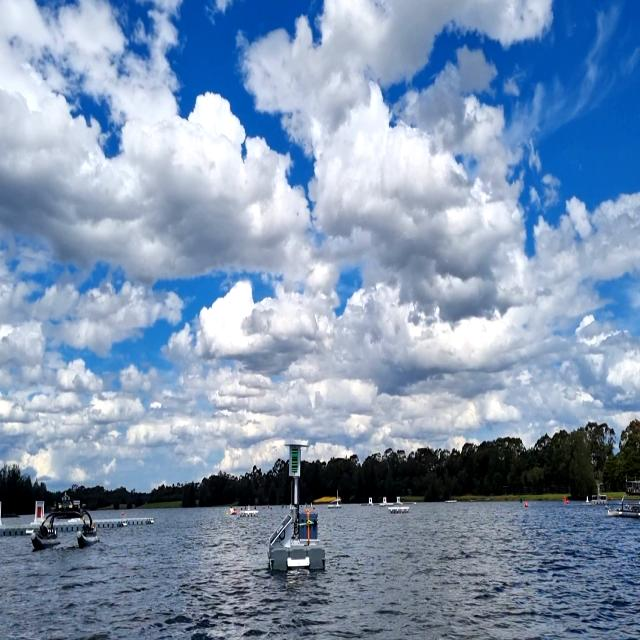led: (290, 446, 299, 474)
